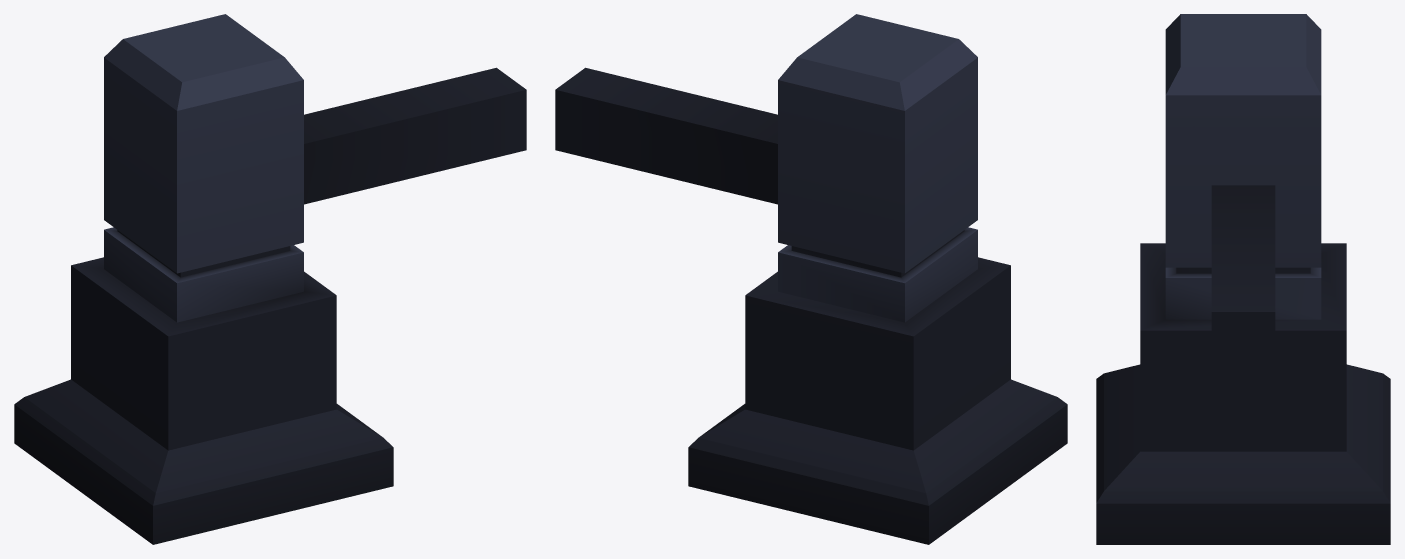
File: pq_muret_bout.glb
The picture shows the model from 3 angles, left to right: view 1: azimuth 30°, elevation 25°; view 2: azimuth 150°, elevation 25°; view 3: azimuth 270°, elevation 25°; orthographic projection. The views are drawn at different scales.
Parts seen in each view (by area): view 1: Fence_End_Modular; view 2: Fence_End_Modular; view 3: Fence_End_Modular.
Boxes of the visible parts, bbox=[...] form: Fence_End_Modular: bbox=[14, 14, 526, 544]; Fence_End_Modular: bbox=[555, 14, 1067, 544]; Fence_End_Modular: bbox=[1096, 14, 1390, 544].
Bounding box in the file's own units: 1.39 × 1.29 × 0.7812.
